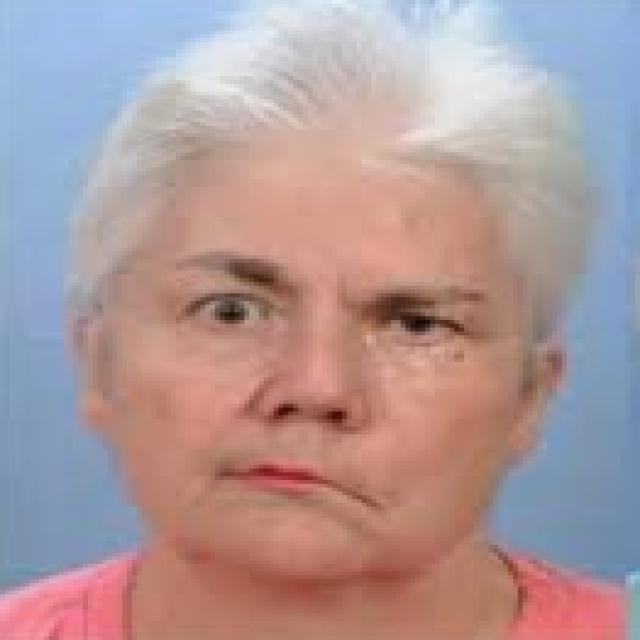stroke_face: (120, 129, 532, 576)
